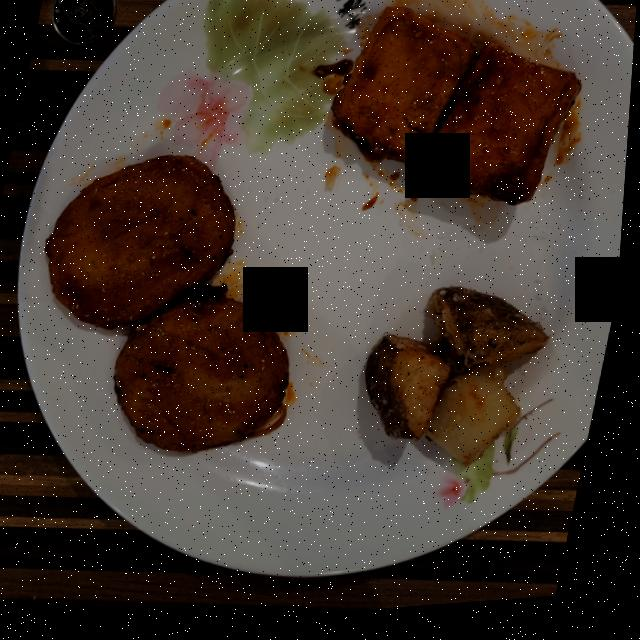coin: (50, 0, 115, 47)
creamy tofu: (333, 13, 582, 213)
fish cake: (48, 158, 294, 456)
fried potato: (371, 294, 554, 474)
